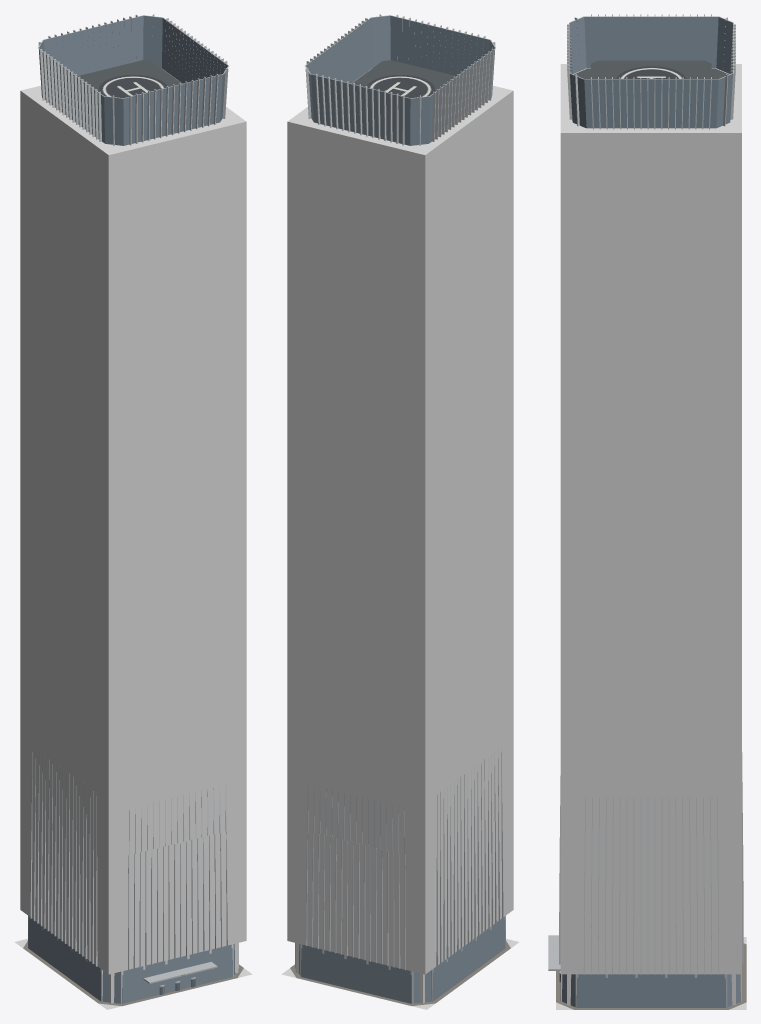
Rendered from cwtc3.glb.
3 views of the same model, side by side, from view 1: azimuth 30°, elevation 25°; view 2: azimuth 150°, elevation 25°; view 3: azimuth 270°, elevation 25° (orthographic). The views are drawn at different scales.
Visible parts, largest first — view 1: COL_tower, Tower, Massing; view 2: COL_tower, Tower, Massing; view 3: COL_tower, Tower, Massing.
Part boxes in pixels (x1,y1,x2,y2): COL_tower: [20, 69, 246, 974]; Tower: [23, 14, 243, 1005]; Massing: [28, 15, 235, 1003]; COL_tower: [287, 69, 513, 974]; Tower: [290, 14, 510, 1005]; Massing: [298, 15, 505, 1003]; COL_tower: [560, 64, 741, 974]; Tower: [548, 14, 746, 1009]; Massing: [560, 21, 740, 1007].
Size of the model in its own units: 55.8 by 331 by 64.16.
Materials: 13 (1 with a texture image).
